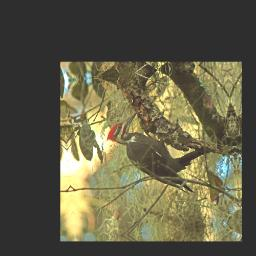Woodpecker: (104, 106, 197, 204)
